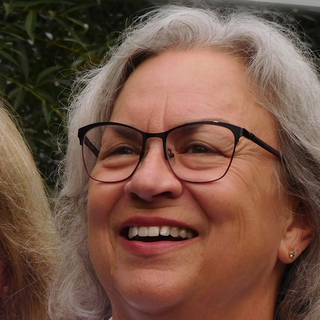eye: (178, 140, 223, 162), (98, 141, 139, 163)
